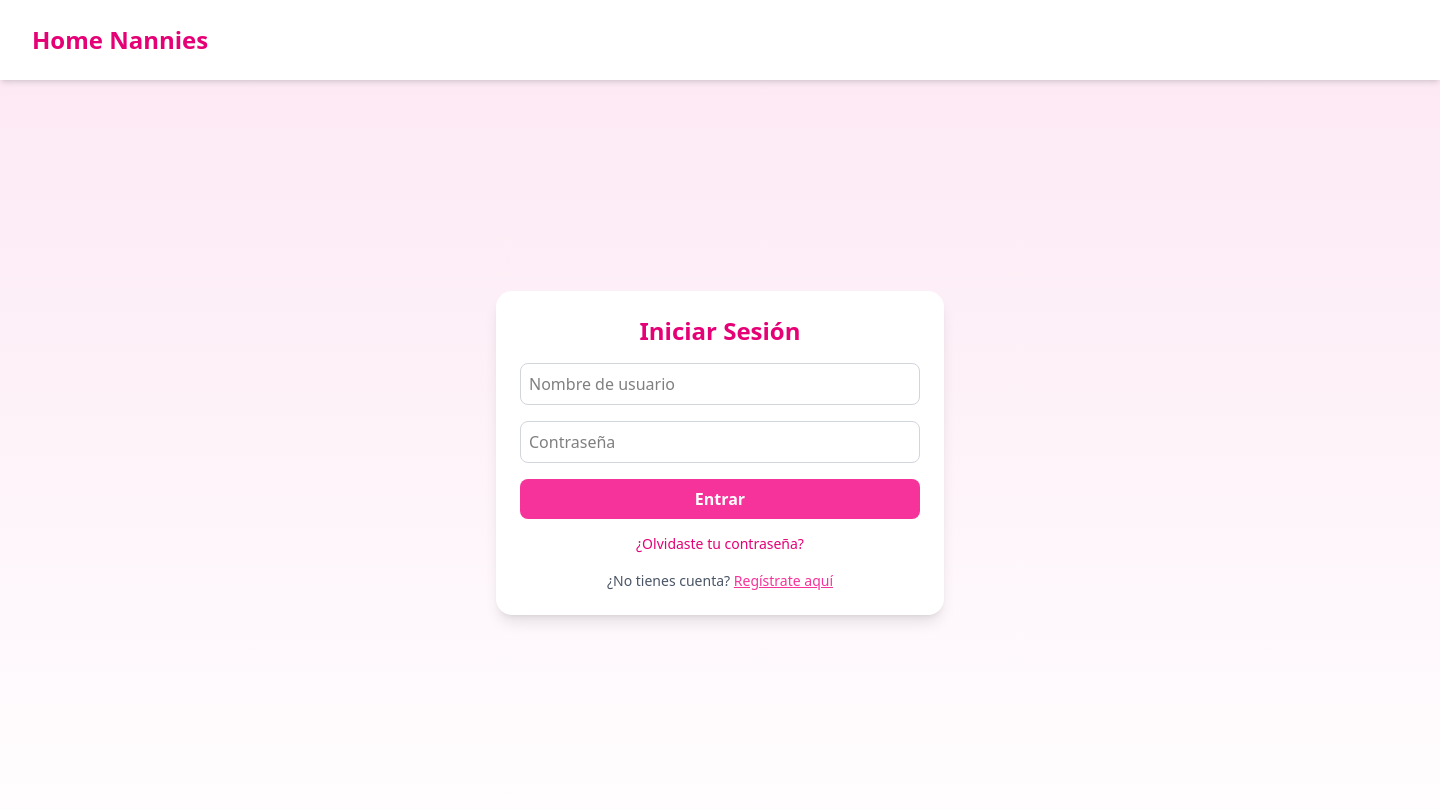
Login Component › valida longitud mínima de contraseña
This screenshot has width=1440, height=810.
Type "testuser" into the field with placeholder "Nombre de usuario" at [720, 384], box [520,363,920,405]
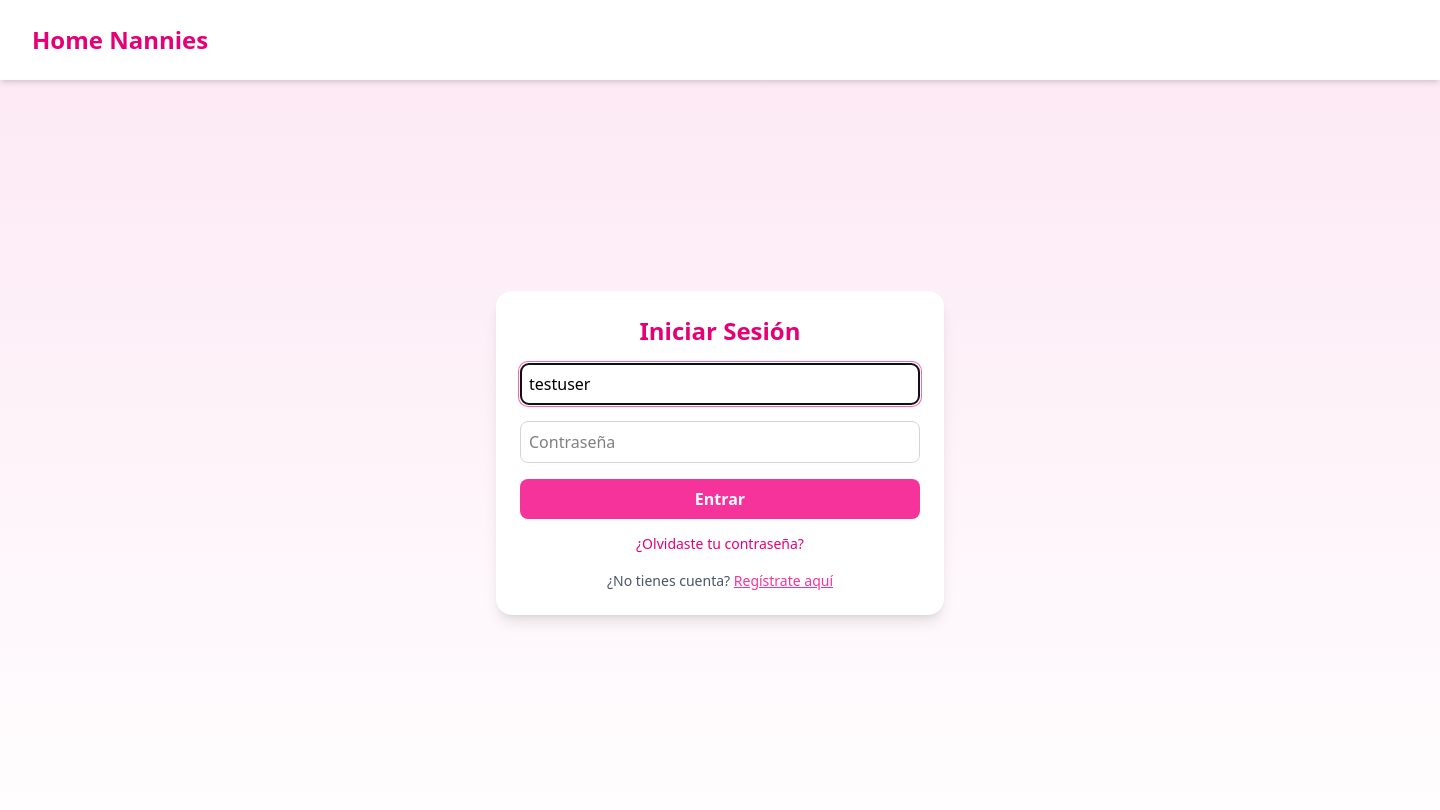
Type "short" into the password field with placeholder "Contraseña" at [720, 442], box [520,421,920,463]
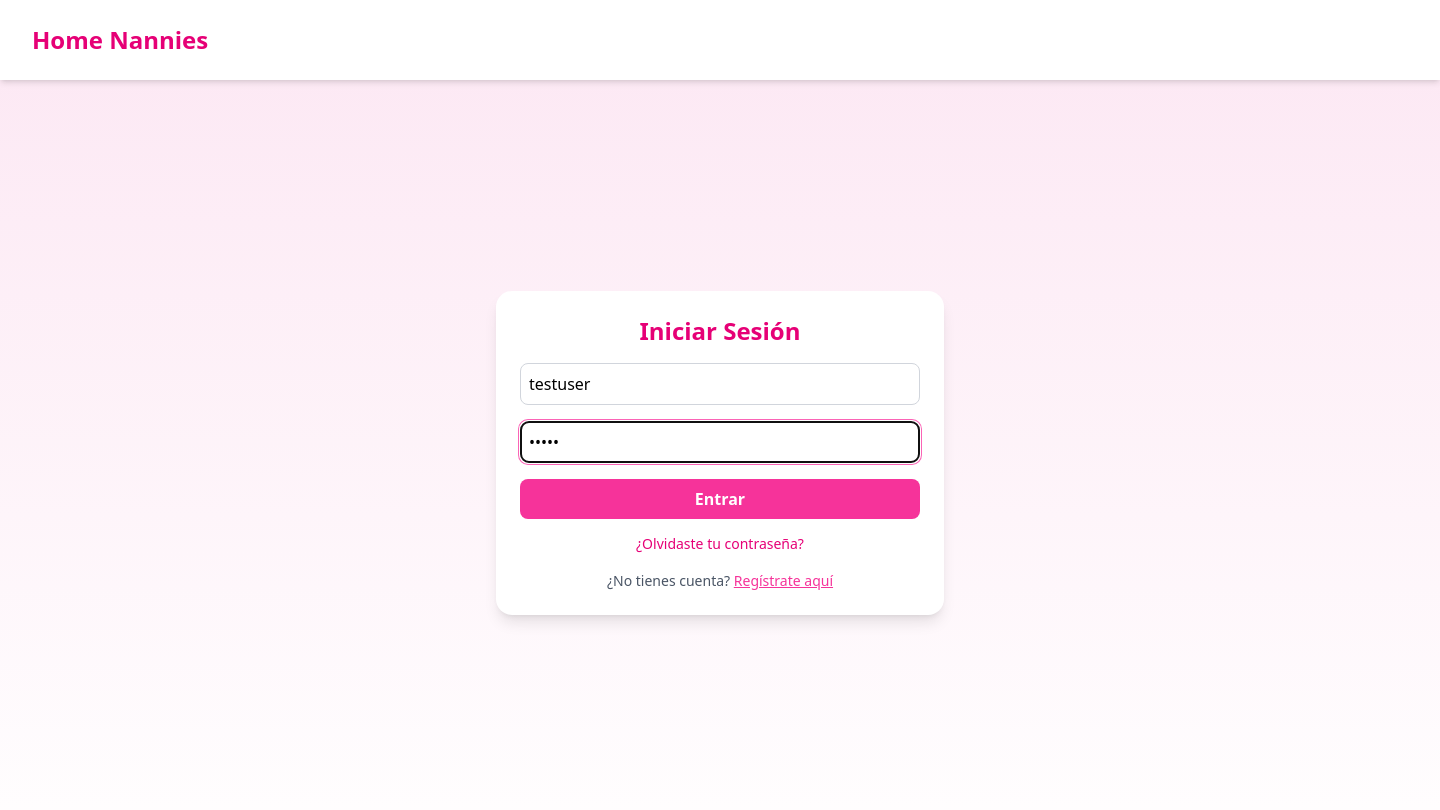
Click the button "Entrar" at [720, 499], box [520,479,920,519]
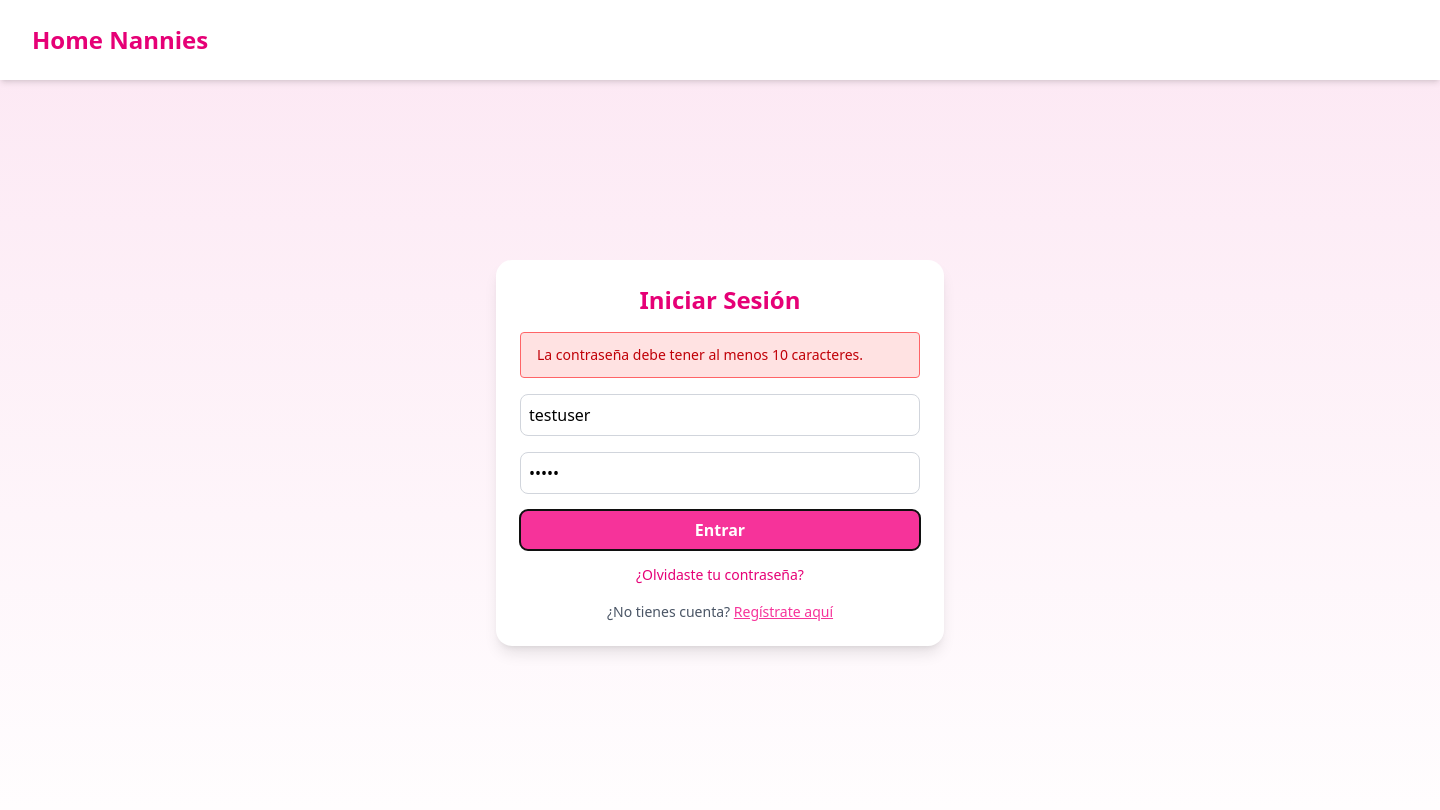
Expected: the text "La contraseña debe tener al menos 10 caracteres." is shown, [520,332,920,378]
